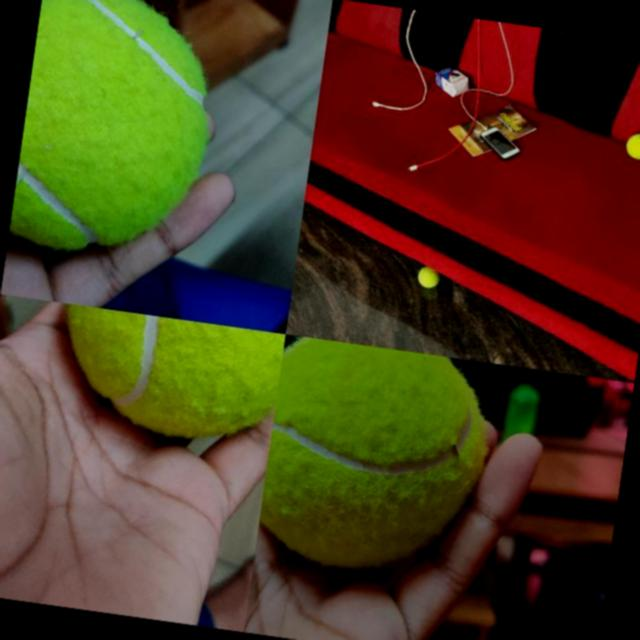tennis-ball: (255, 334, 498, 584), (8, 0, 226, 267), (51, 304, 284, 448), (416, 270, 440, 289), (625, 131, 640, 160)
